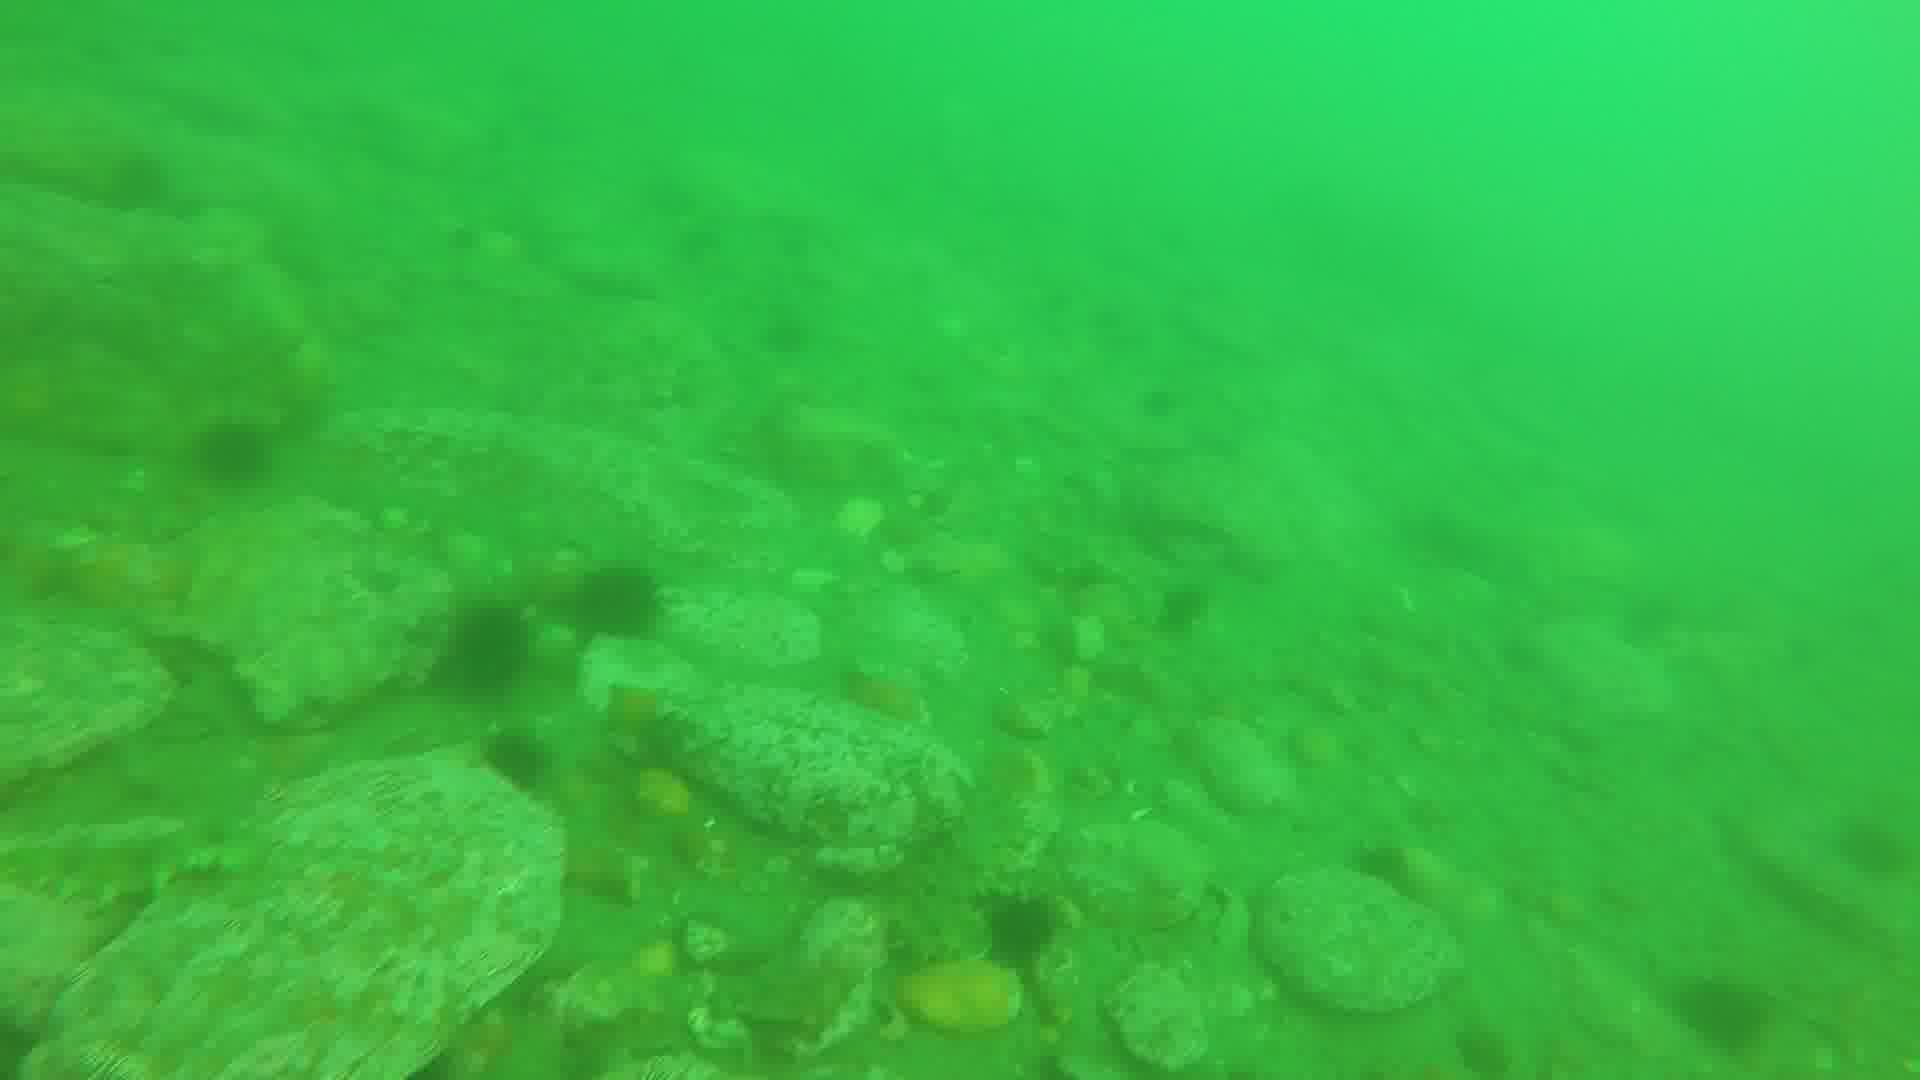echinus: (566, 559, 665, 650), (444, 607, 531, 698), (1676, 978, 1772, 1059), (479, 736, 553, 814), (988, 887, 1058, 969), (1346, 835, 1415, 905), (195, 427, 272, 485), (1168, 585, 1212, 636)
